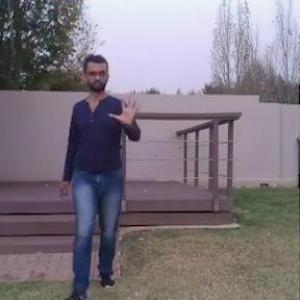follow_hand: (109, 93, 144, 126)
